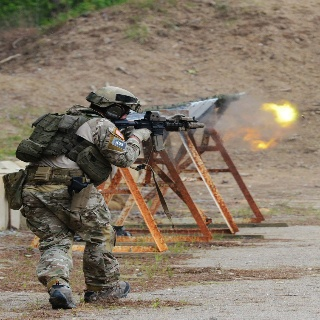rifle: (111, 109, 204, 153)
